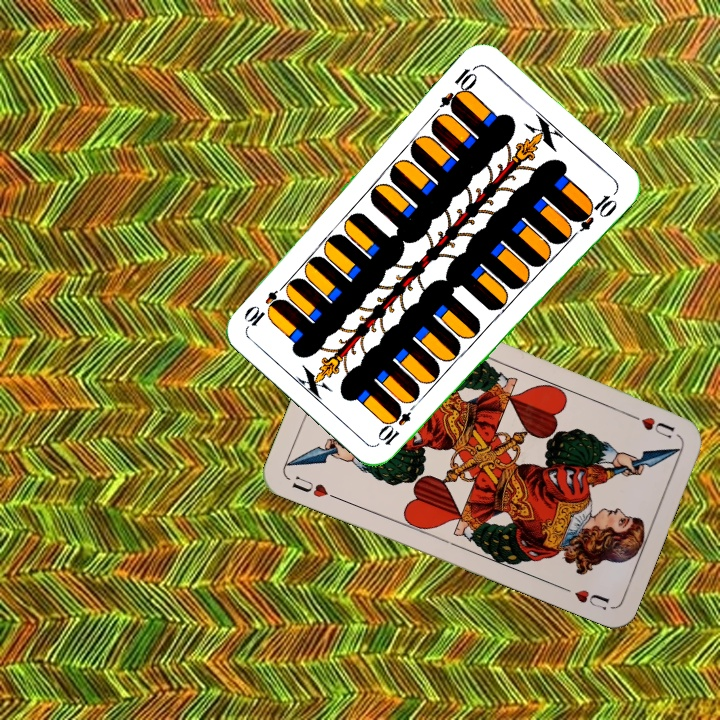E10: (375, 396, 421, 448), (436, 61, 481, 114)
HU: (623, 409, 677, 442), (288, 472, 342, 503)
